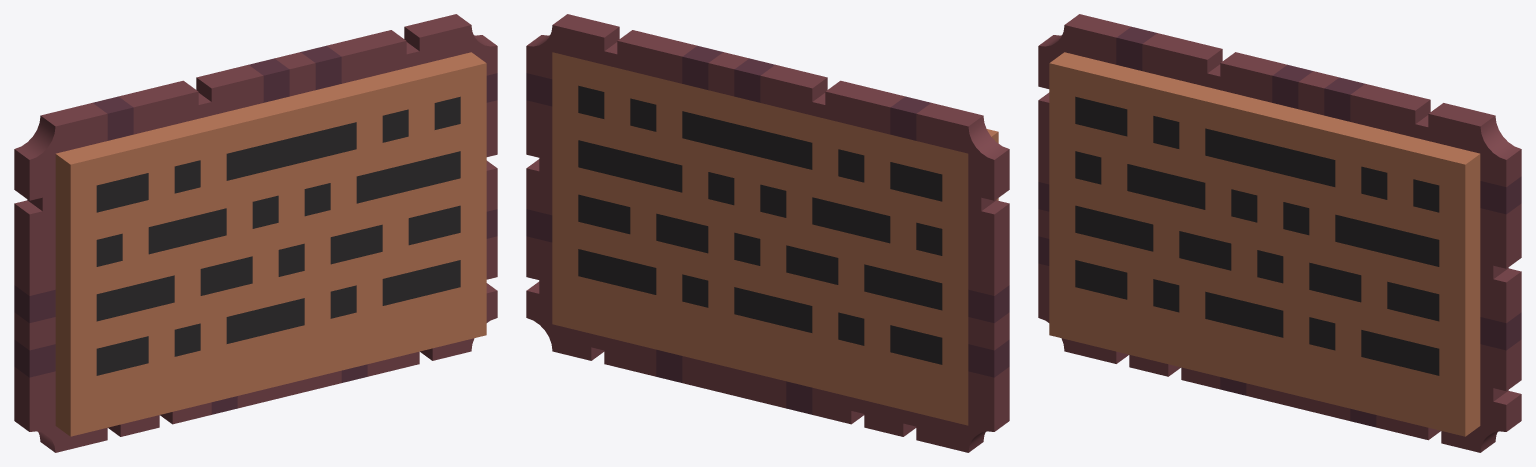
Rendered from sign.glb.
The picture shows the model from 3 angles, left to right: view 1: azimuth 30°, elevation 25°; view 2: azimuth 150°, elevation 25°; view 3: azimuth 330°, elevation 25°; orthographic projection.
Parts seen in each view (by area): view 1: generated(Clone); view 2: generated(Clone); view 3: generated(Clone).
Part boxes in pixels (left/top/right/bottom): generated(Clone): left=14, top=14, right=497, bottom=452; generated(Clone): left=526, top=14, right=1009, bottom=452; generated(Clone): left=1038, top=14, right=1521, bottom=452.
Bounding box in the file's own units: 18 × 12 × 2.
1 material, 1 textured.
